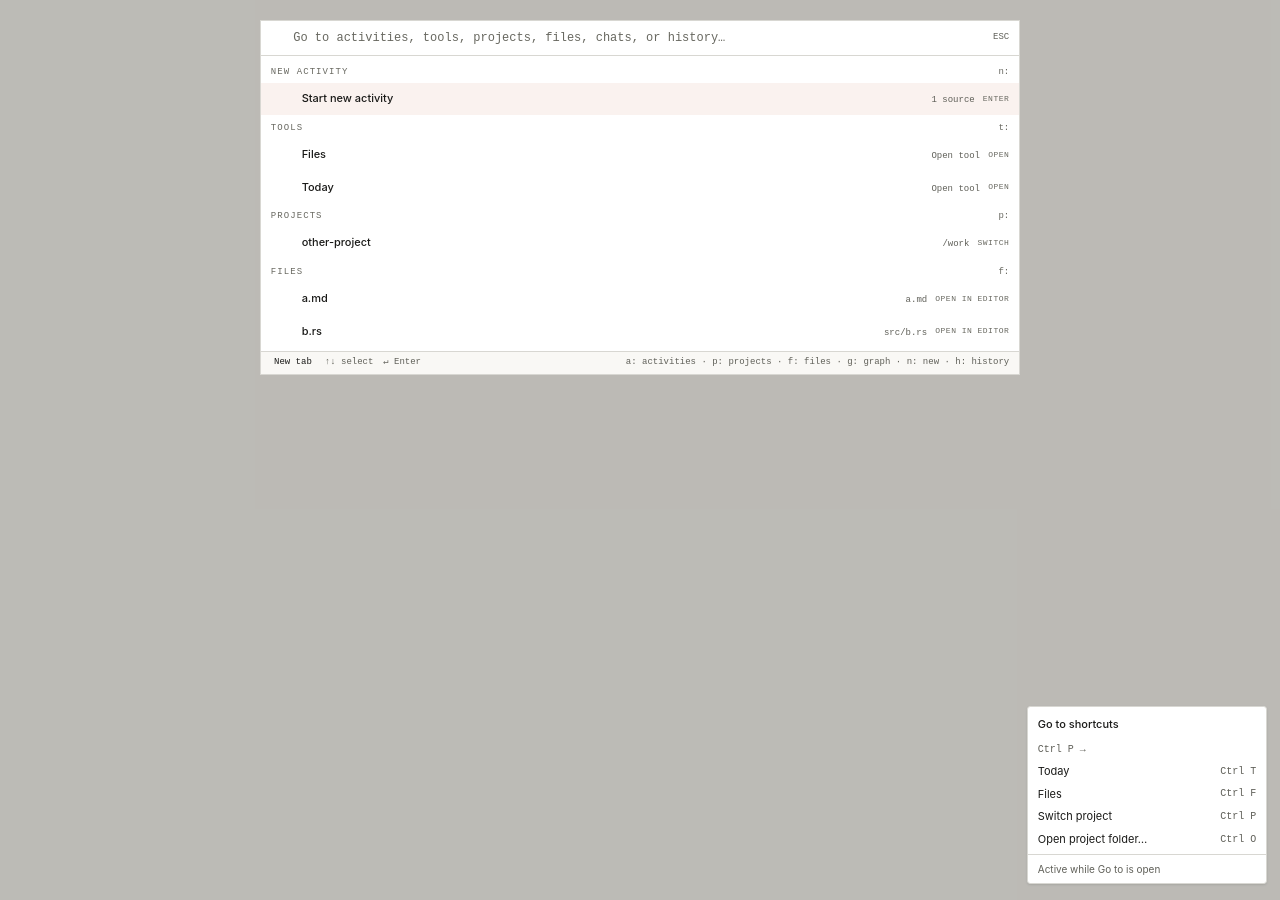
Test: QuickOpen › explains an empty project history and points to global search
Type "h:" into the dropdown with placeholder "Go to activities, tools, projects, files, chats, or history…" at [640, 38], box 293,20 -> 987,55
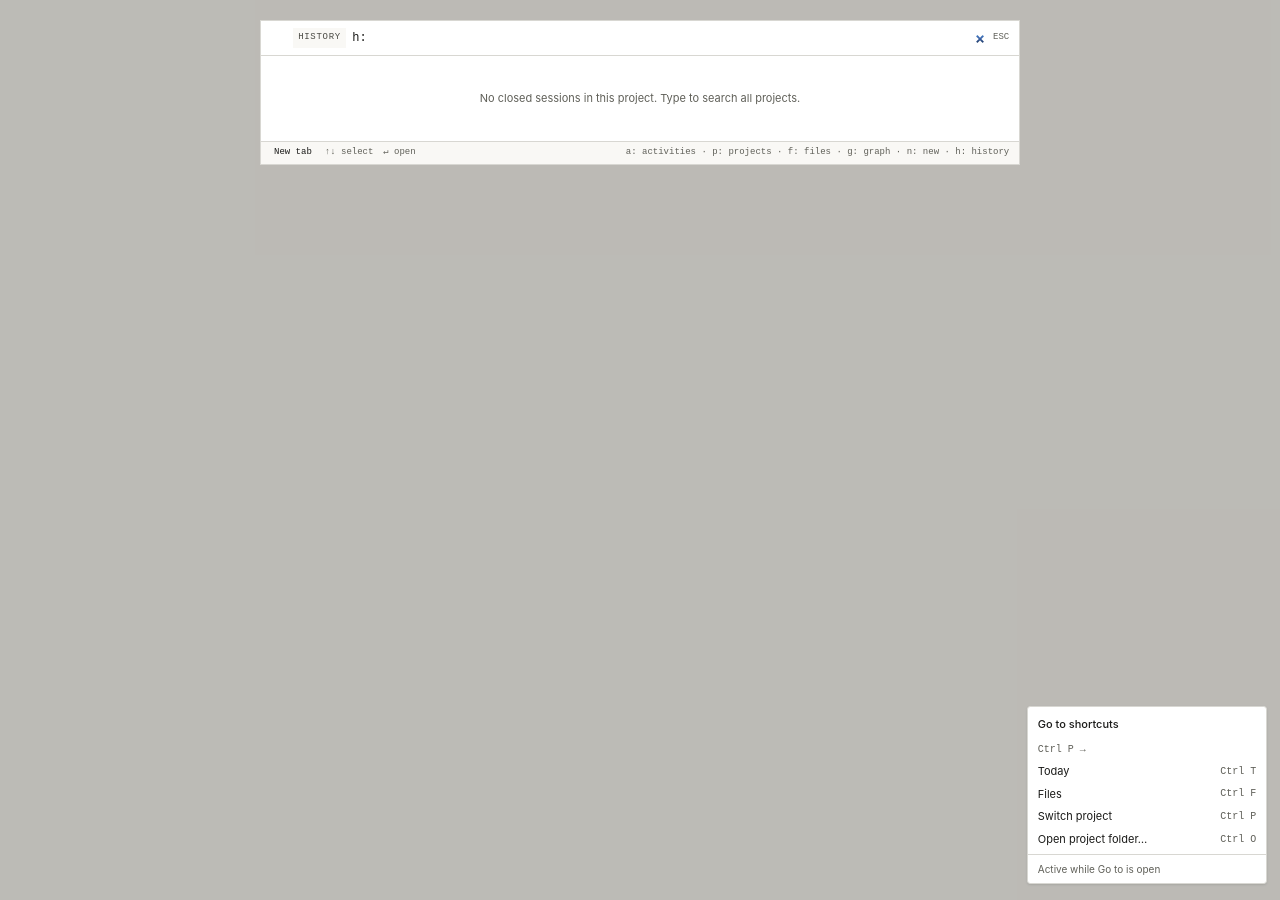
expect the text "No closed sessions in this project. Type to search all projects." is shown: met, box 480,91 -> 800,105
